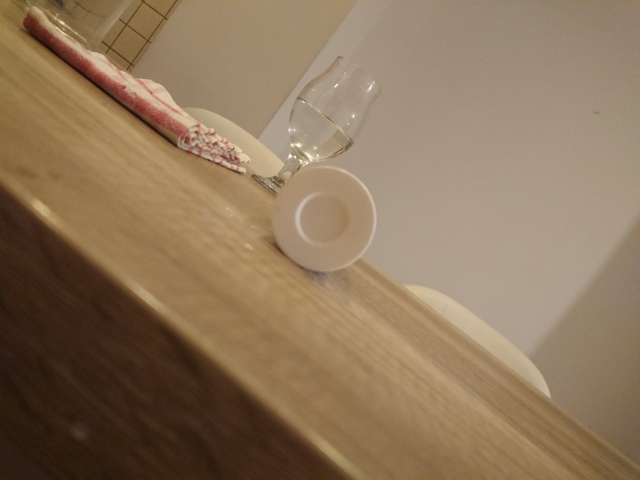Solana Pag Fine Sea Salt 250g: (269, 163, 379, 274)
